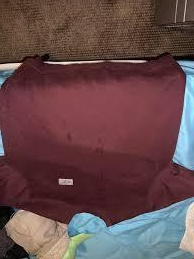oil: (93, 137, 106, 160), (66, 130, 75, 145)
